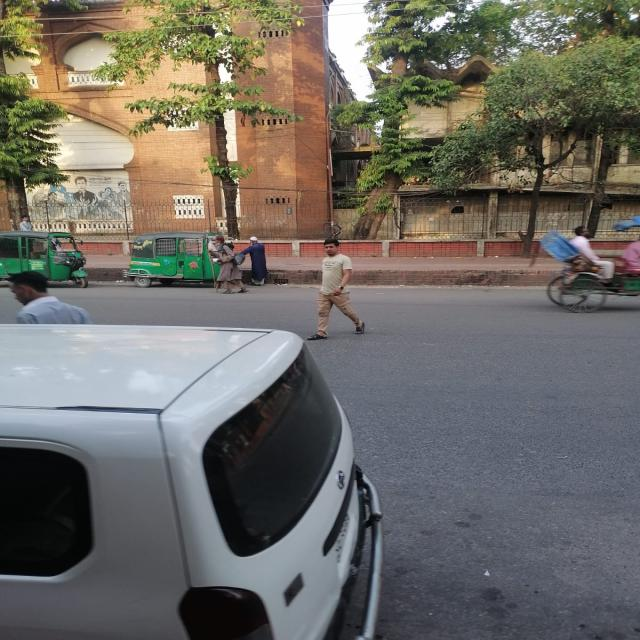person: (307, 238, 365, 341), (9, 271, 91, 324)
